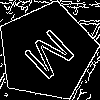M: (21, 27, 84, 89)
